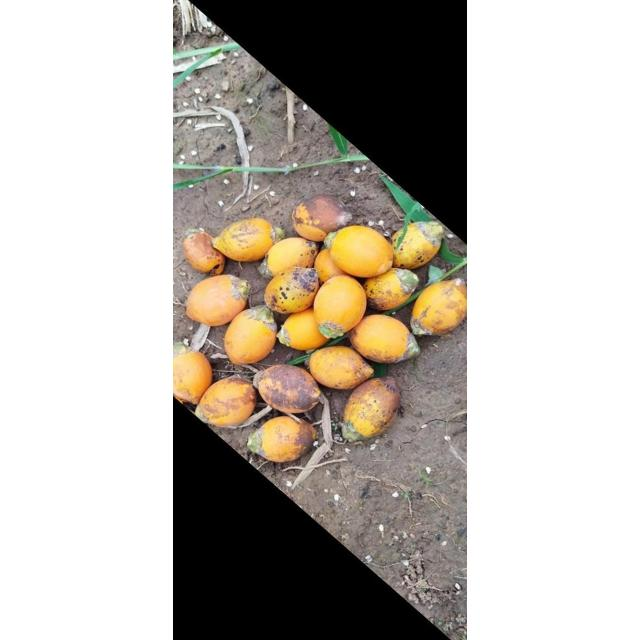good: (196, 235, 420, 439)
